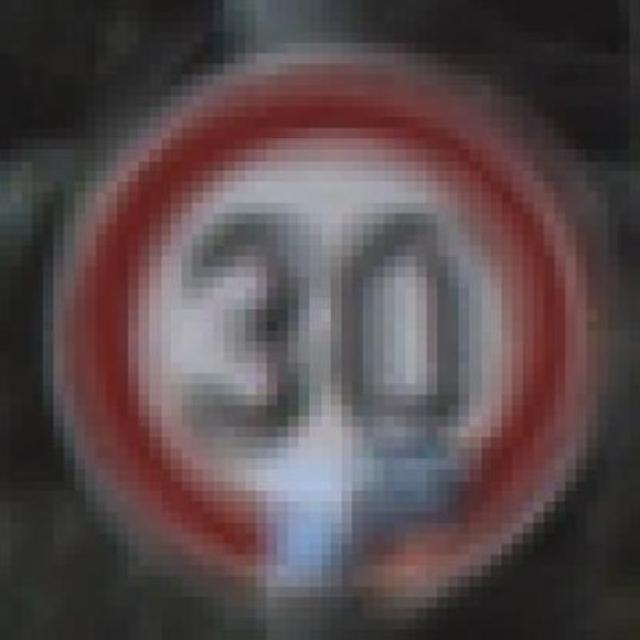Speed Limit 30 KMPh: (42, 53, 620, 630)
